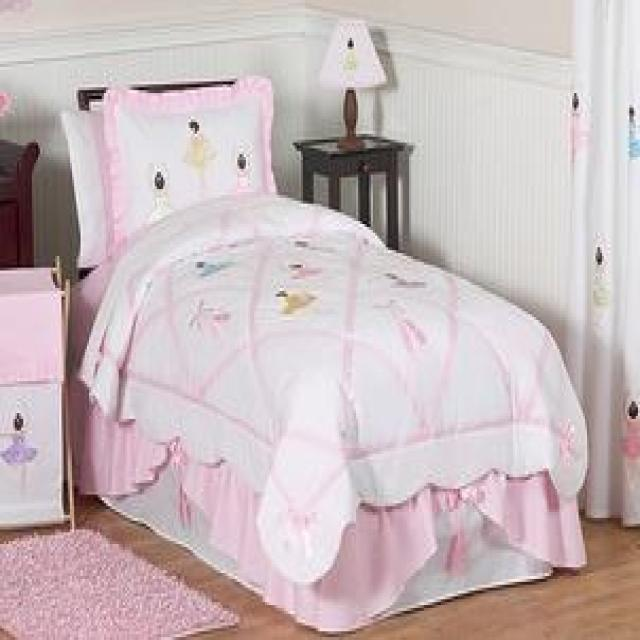bed: (62, 73, 589, 634)
